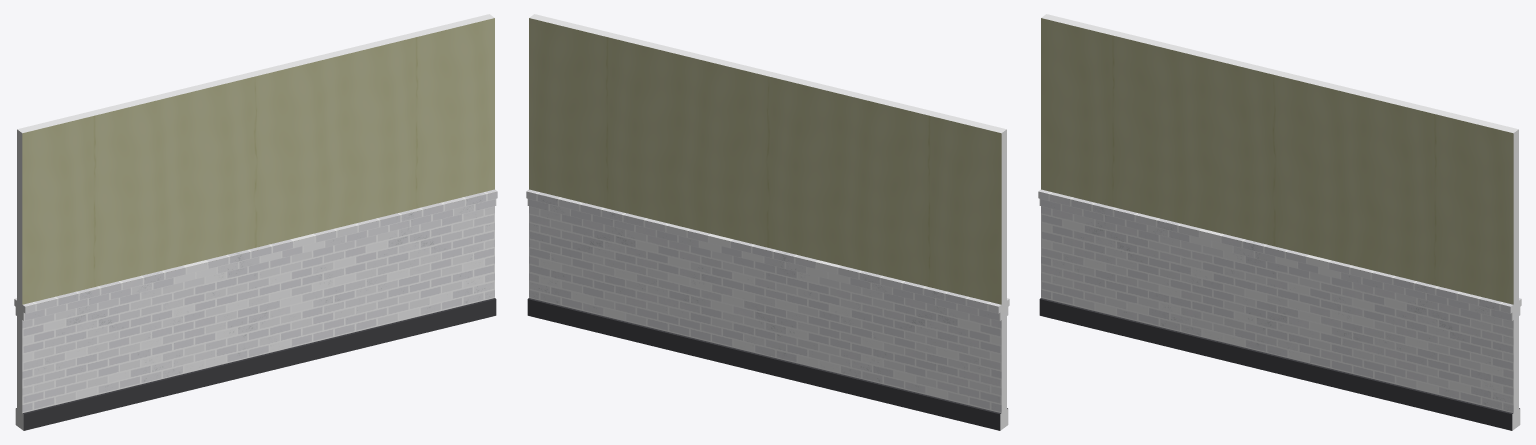
File: SM_Buildings_Wall_5x3_01_TileBack.fbx
The picture shows the model from 3 angles, left to right: view 1: azimuth 30°, elevation 25°; view 2: azimuth 150°, elevation 25°; view 3: azimuth 330°, elevation 25°; orthographic projection.
Parts seen in each view (by area): view 1: SM_Buildings_Wall_5x3_01_TileBack; view 2: SM_Buildings_Wall_5x3_01_TileBack; view 3: SM_Buildings_Wall_5x3_01_TileBack.
Part boxes in pixels (<box>): SM_Buildings_Wall_5x3_01_TileBack: <box>14,14,497,430</box>; SM_Buildings_Wall_5x3_01_TileBack: <box>526,14,1009,430</box>; SM_Buildings_Wall_5x3_01_TileBack: <box>1038,14,1521,430</box>.
Bounding box in the file's own units: 500 × 300 × 20.
Materials: 1 (1 with a texture image).
